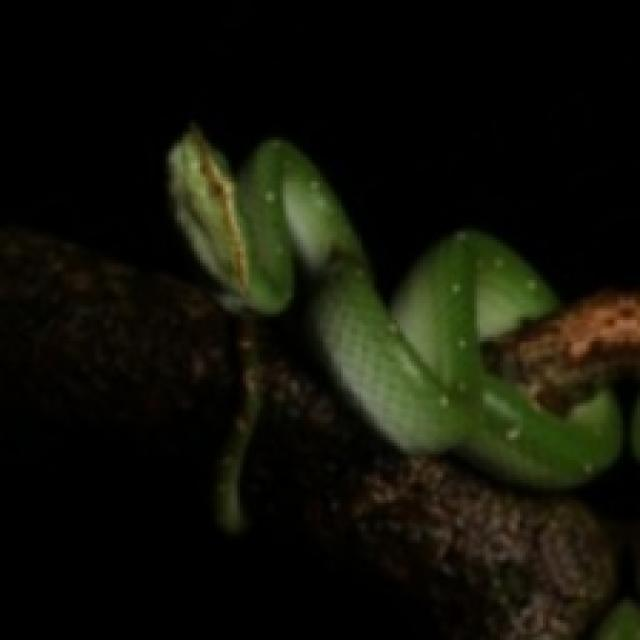north ph temple pitviper: (169, 129, 620, 486)
